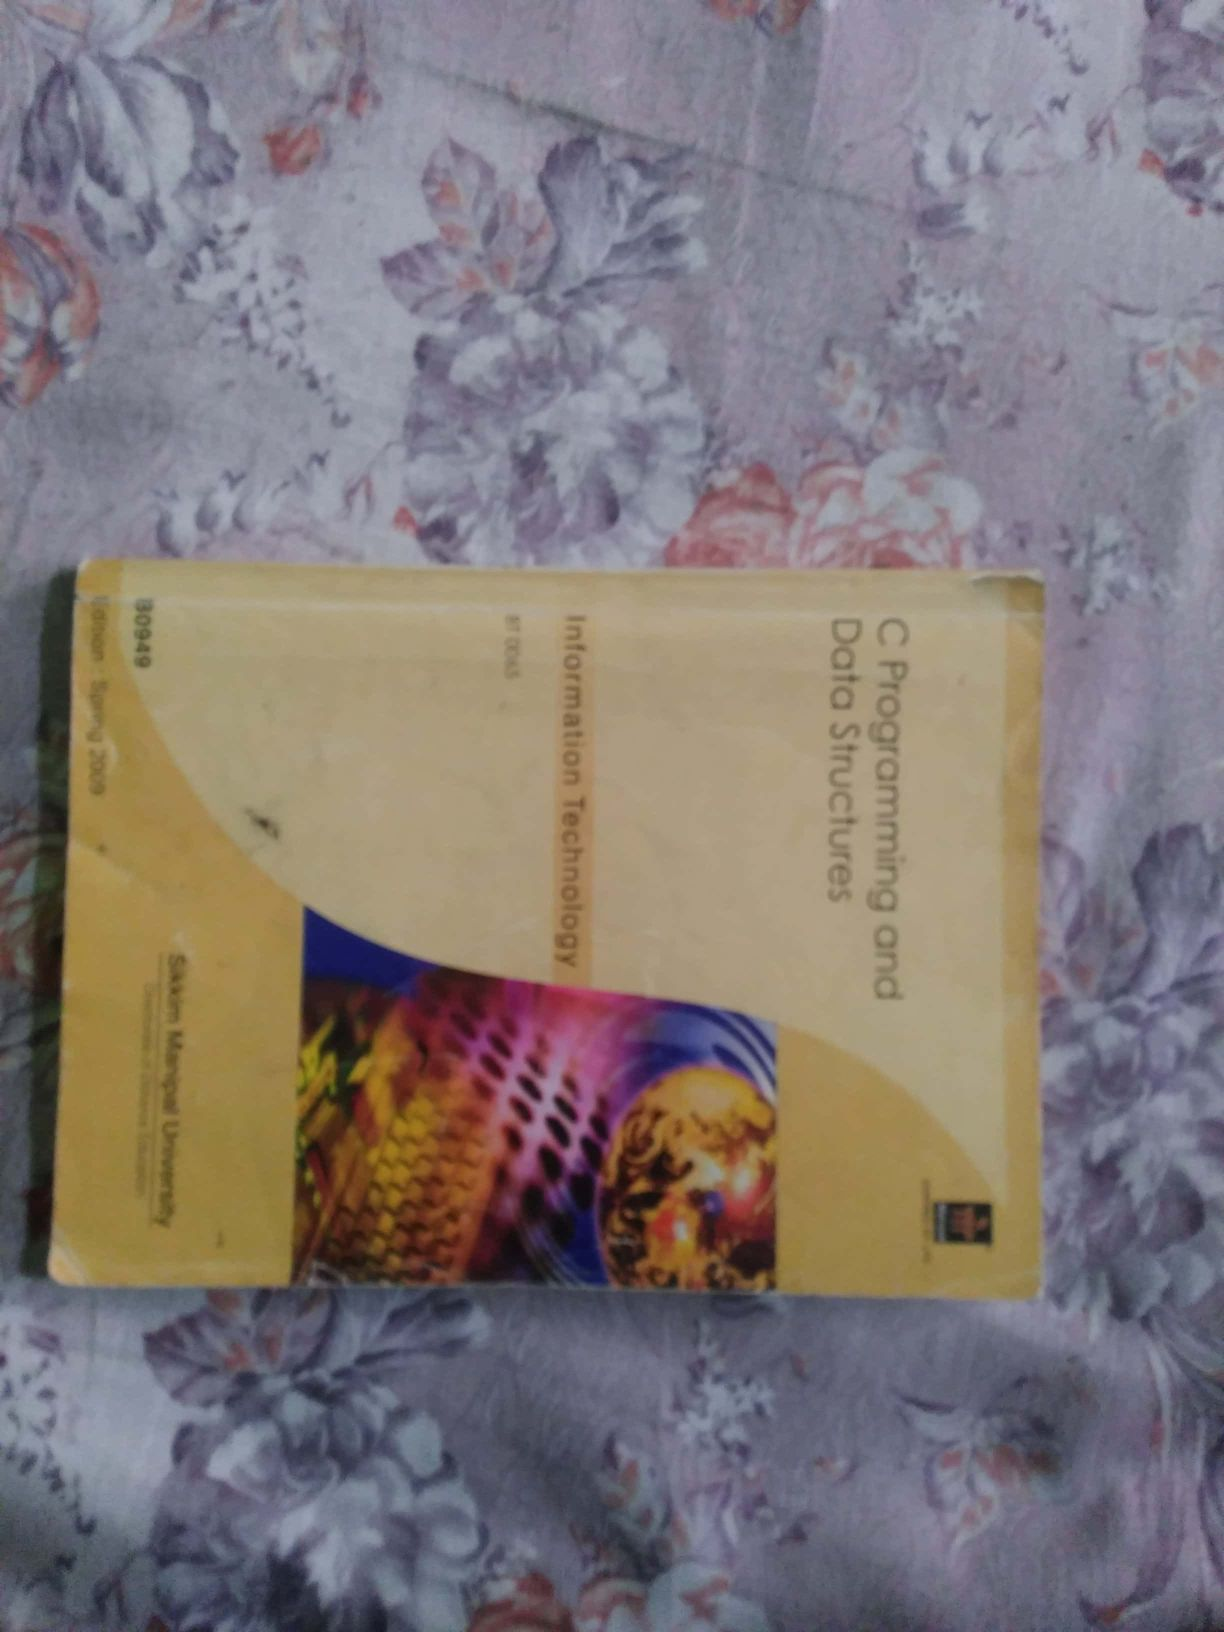clang: (37, 541, 1092, 1366)
